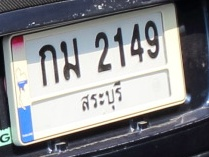txt01: (38, 43, 60, 88)
txt28: (60, 37, 82, 82)
